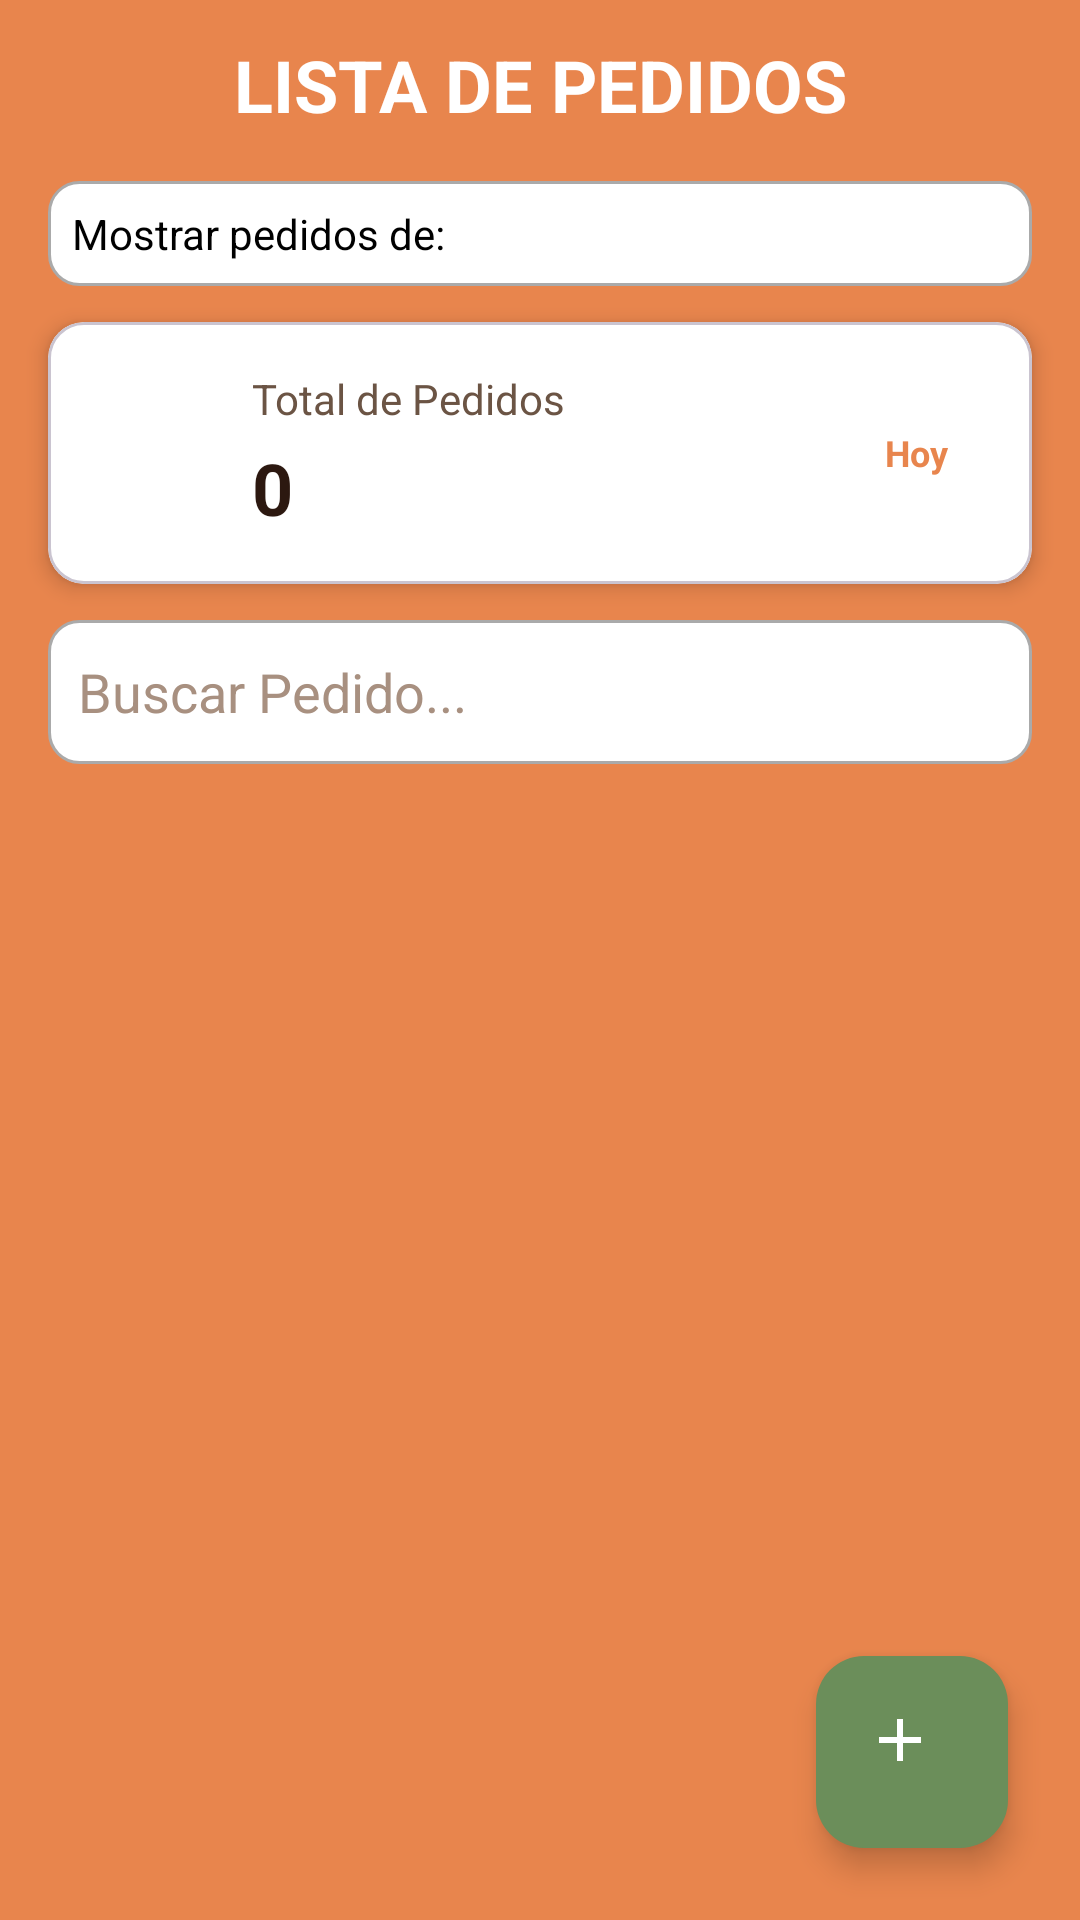

Icons on this 1080px x 1920px Android screen, each with its box as bbox(x1, y1, x2, y2):
Nuevo Pedido: bbox(816, 1656, 1008, 1848)
